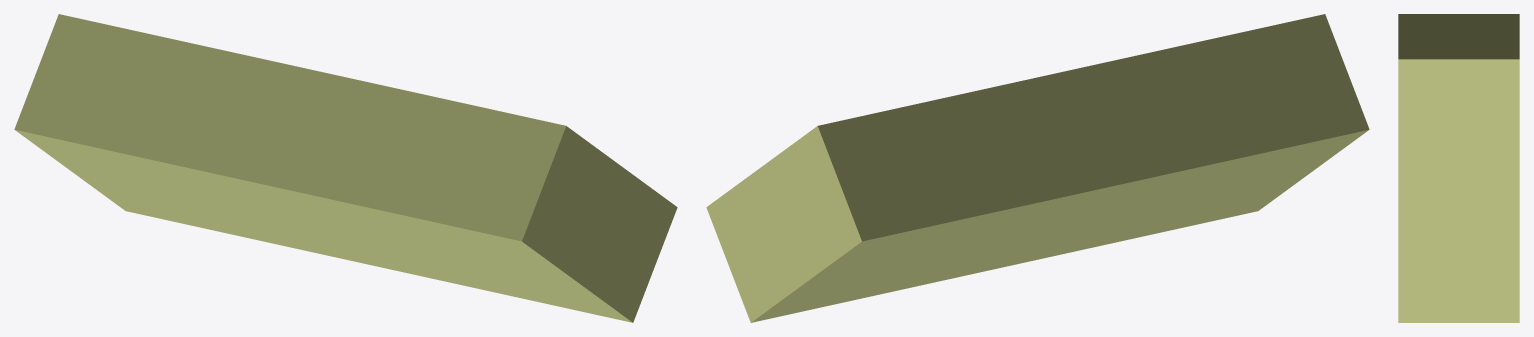
3 views of the same model, side by side, from view 1: azimuth 30°, elevation 25°; view 2: azimuth 150°, elevation 25°; view 3: azimuth 270°, elevation 25° (orthographic). The views are drawn at different scales.
Visible parts, largest first — view 1: 0_1_0_0_1_3_0_1_0; view 2: 0_1_0_0_1_3_0_1_0; view 3: 0_1_0_0_1_3_0_1_0.
Part boxes in pixels (x1,y1,x2,y2): 0_1_0_0_1_3_0_1_0: (14, 14, 677, 322); 0_1_0_0_1_3_0_1_0: (706, 14, 1369, 322); 0_1_0_0_1_3_0_1_0: (1398, 14, 1519, 322).
Size of the model in its own units: 25.77 by 15.19 by 9.
